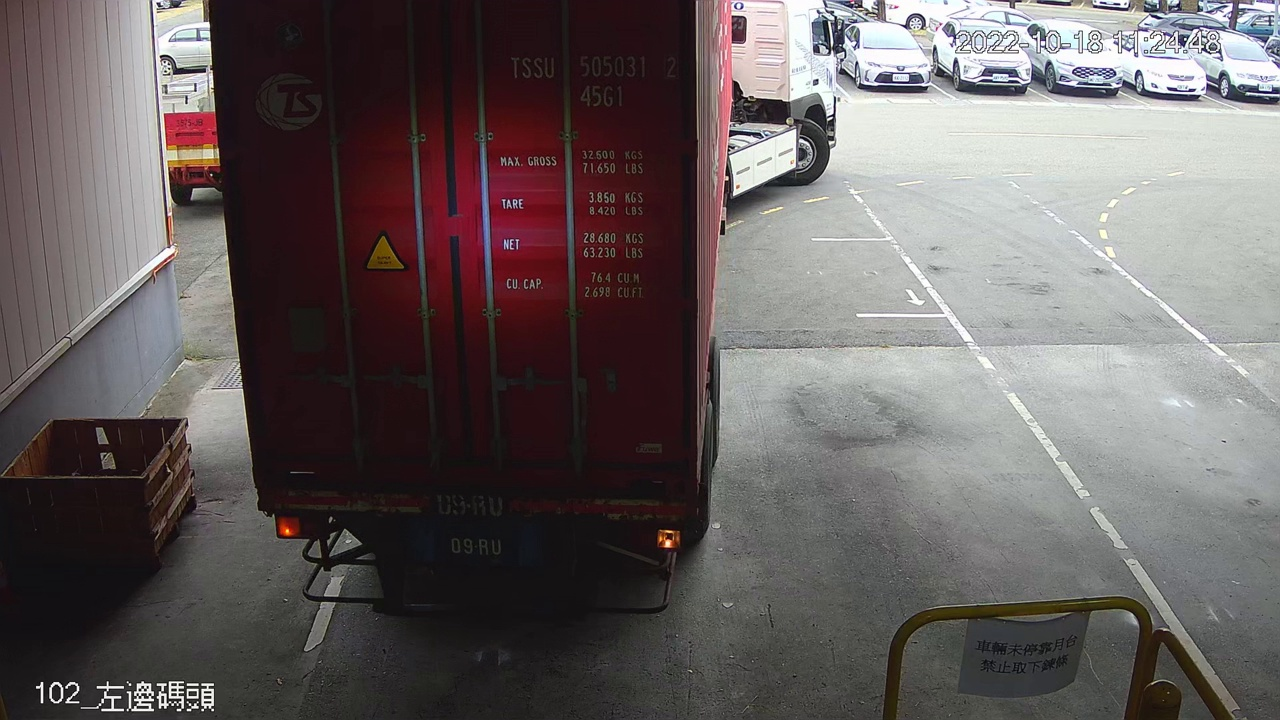container: (498, 44, 685, 116)
